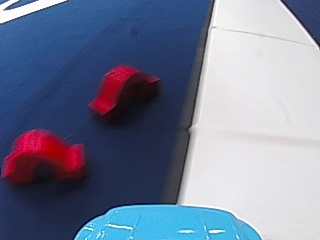bridge: (0, 126, 91, 188), (84, 62, 161, 124)
